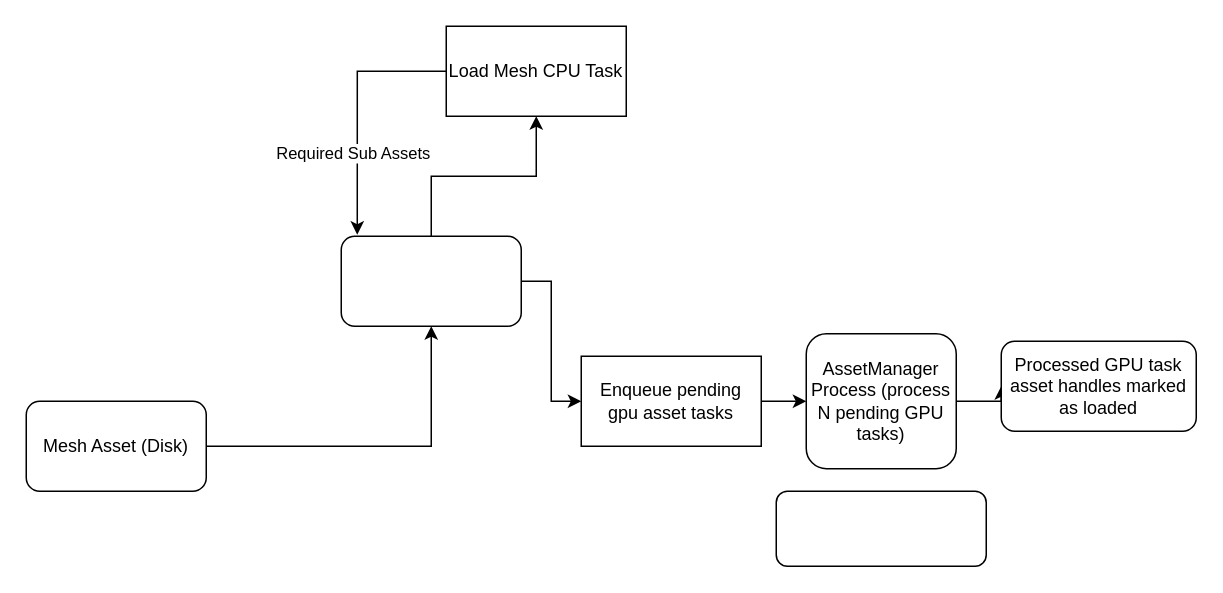
This 1223x593 diagram has some shape labels left out. Each missing label, with the box of its shape:
Asset Manager Load Async: (340, 235, 521, 326)
Assets with GPU tasks remain in pending: (775, 490, 986, 566)
